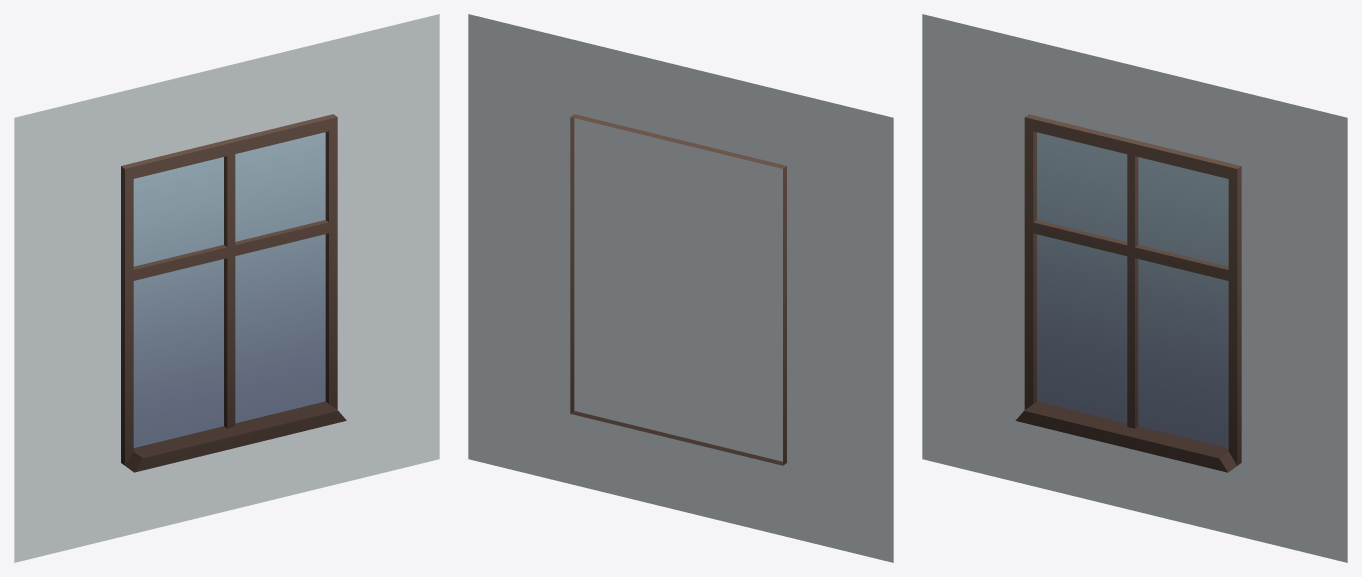
The model's file is Wall_Window.fbx.
The picture shows the model from 3 angles, left to right: view 1: azimuth 30°, elevation 25°; view 2: azimuth 150°, elevation 25°; view 3: azimuth 330°, elevation 25°; orthographic projection.
Visible parts, largest first — view 1: Wall_window; view 2: Wall_window; view 3: Wall_window.
Boxes of the visible parts, x1,y1,x2,y2 form: Wall_window: (14, 14, 439, 562); Wall_window: (468, 14, 893, 562); Wall_window: (922, 14, 1347, 562).
Bounding box in the file's own units: 300 × 300 × 21.44.
